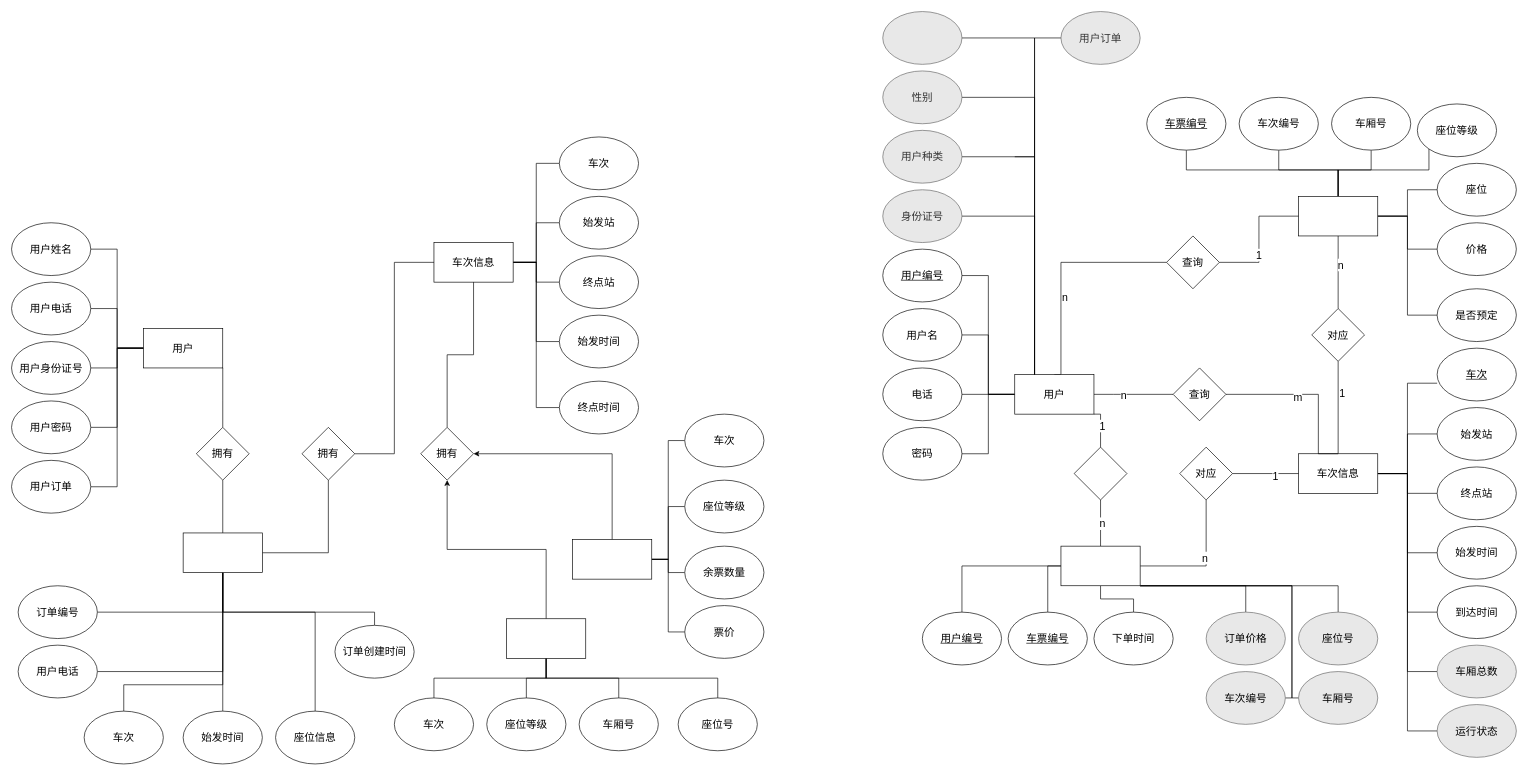
The diagram is 1528 pixels wide and 776 high, and some of its shapes have lost their labels. Here are the shapes that lost their labels. From the top down, the box of each, then its label:
(882, 11, 962, 64): 真实姓名
(1298, 196, 1378, 236): 票务信息
(1073, 446, 1127, 500): 预定
(182, 532, 262, 573): 订单
(572, 539, 652, 579): 余票数量信息
(1060, 545, 1140, 586): 订单记录
(506, 618, 586, 658): 余票位置信息
